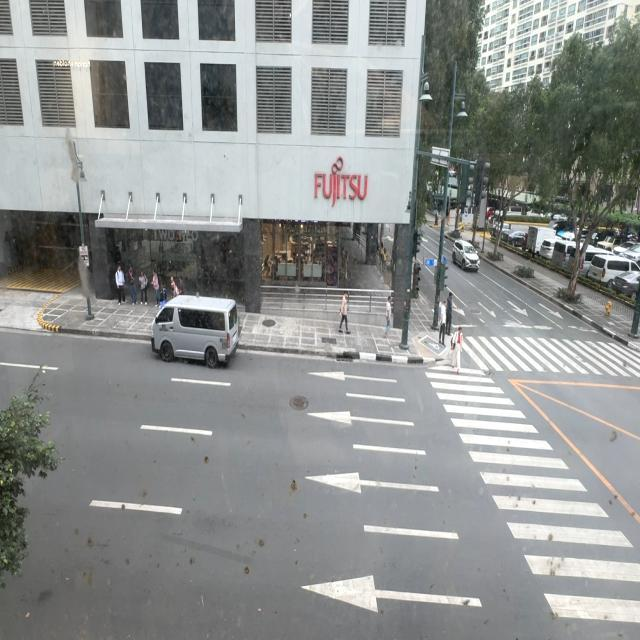waiting: (438, 300, 447, 344), (446, 292, 454, 338)
